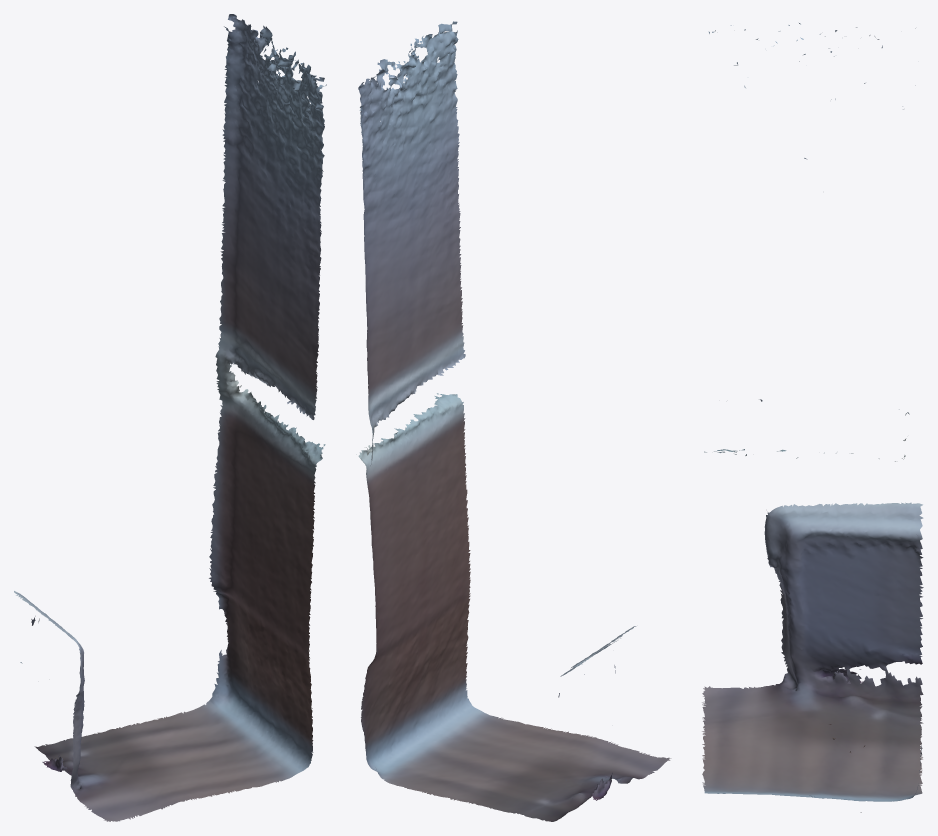
The model's file is apartment-full-53-95abf1a9fca6.glb.
3 views of the same model, side by side, from view 1: azimuth 30°, elevation 25°; view 2: azimuth 150°, elevation 25°; view 3: azimuth 270°, elevation 25° (orthographic). The views are drawn at different scales.
Bounding box in the file's own units: 0.745 × 2.21 × 0.546.
